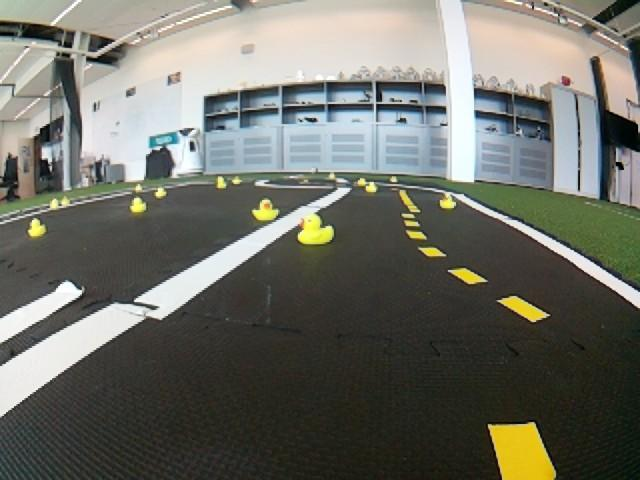Duckies: (297, 214, 334, 245), (252, 198, 279, 221), (28, 219, 47, 236), (439, 194, 456, 209), (130, 198, 146, 213), (216, 177, 227, 188), (155, 188, 167, 198), (366, 182, 377, 192), (232, 176, 242, 185), (50, 200, 59, 209), (60, 197, 69, 205), (357, 178, 366, 186), (328, 173, 336, 180), (134, 185, 142, 191), (391, 176, 398, 182)
